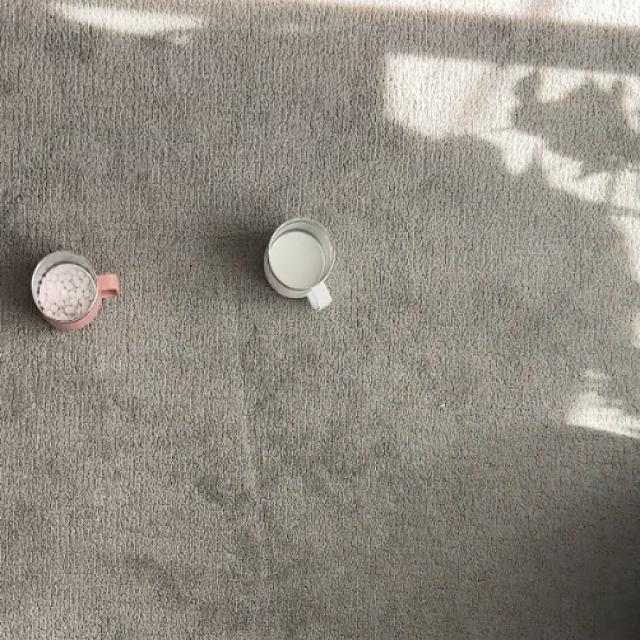IBC: (32, 251, 119, 328), (264, 218, 334, 309)
